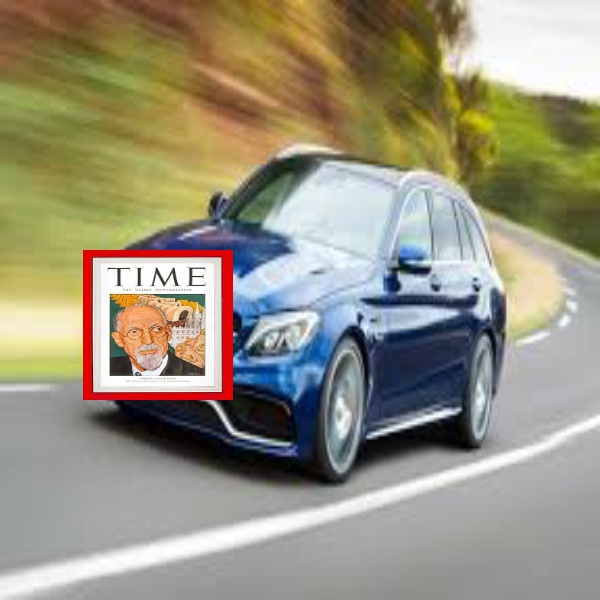time_cover: (84, 245, 231, 402)
